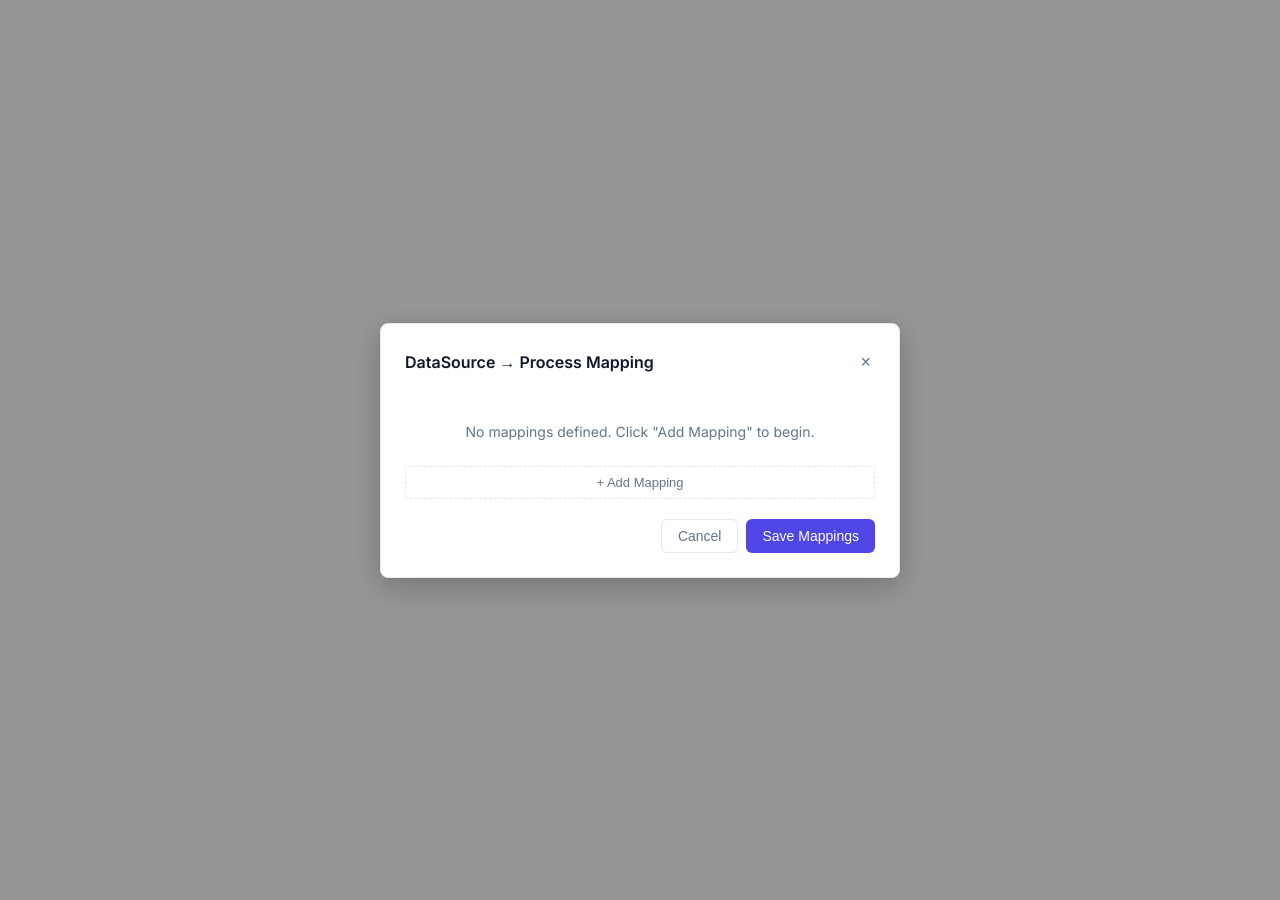
Test: SchemaMappingEditor › adds a new mapping row when Add Mapping is clicked
Step 1. Click the button "+ Add Mapping" → x=640, y=482, box [405,466,875,498]
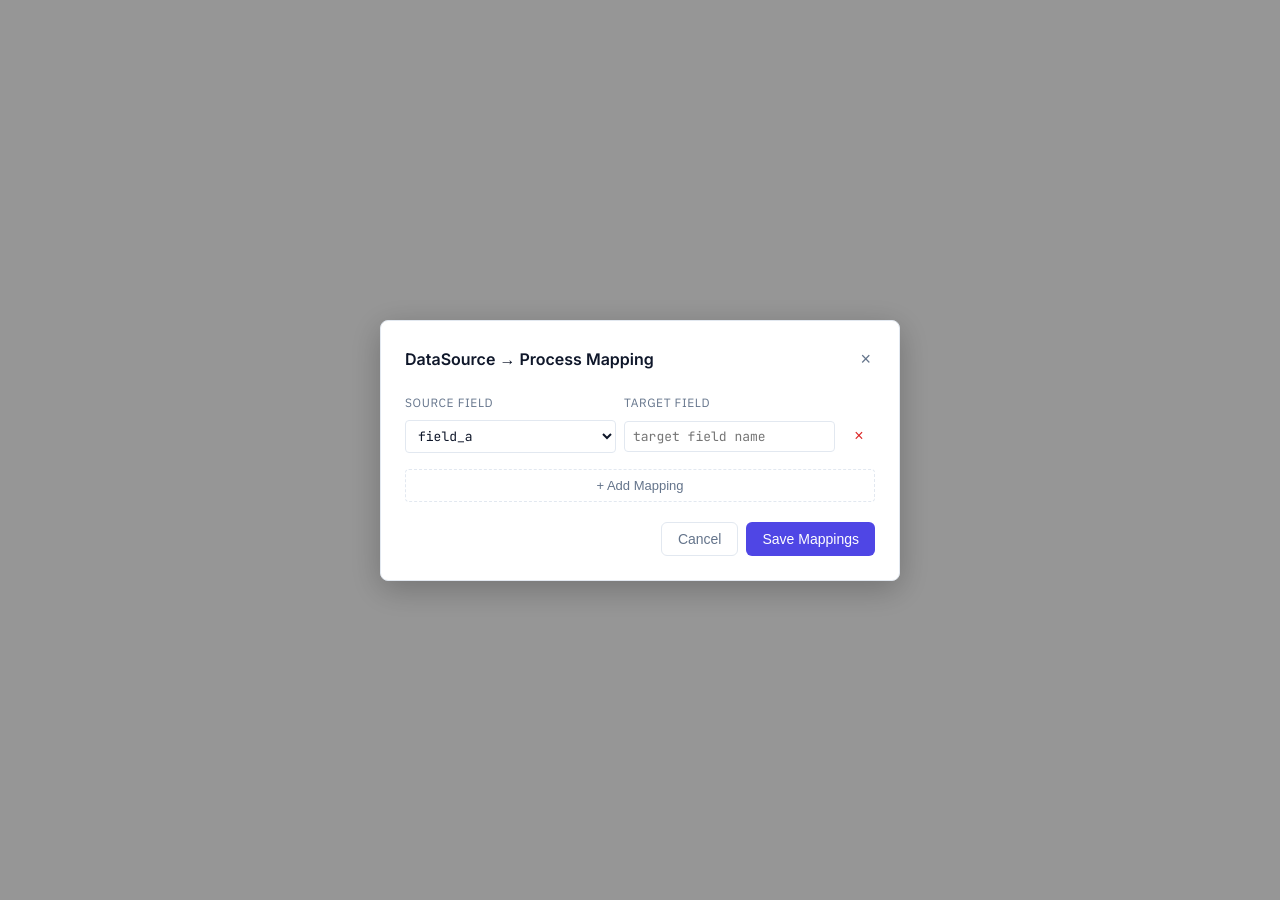
Result: the dropdown is shown at [405,420,616,452]
